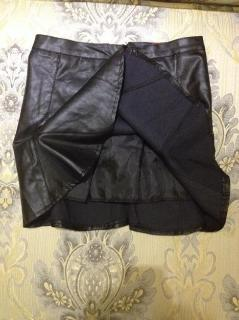skirt: (13, 34, 231, 235)
